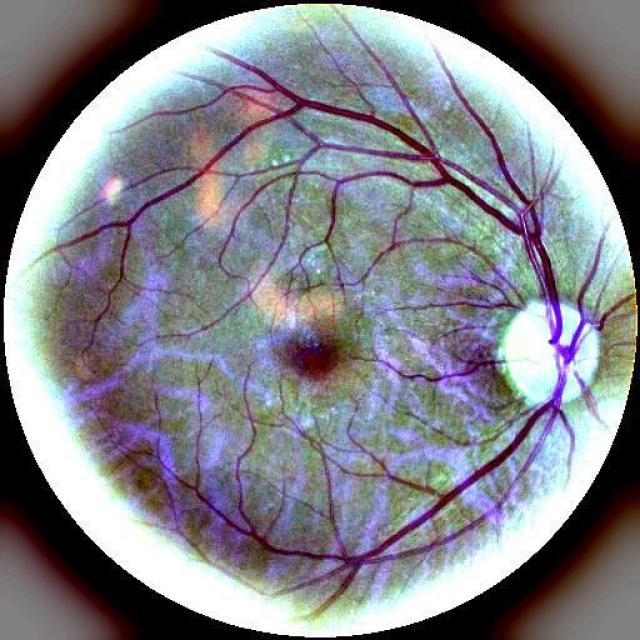Macula: (292, 345, 335, 378)
Nerves: (31, 24, 634, 610), (368, 345, 508, 388)
Optic Disk: (495, 301, 558, 406), (565, 331, 599, 401), (561, 304, 579, 344)
